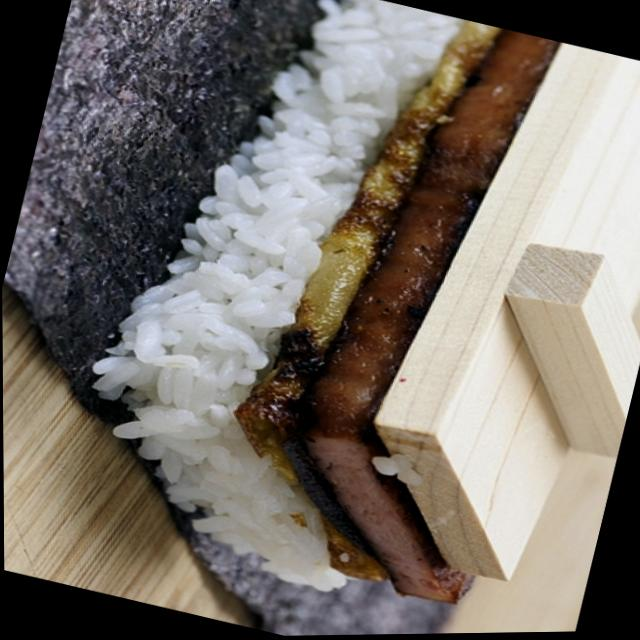寿司卷物: (17, 0, 640, 640)
